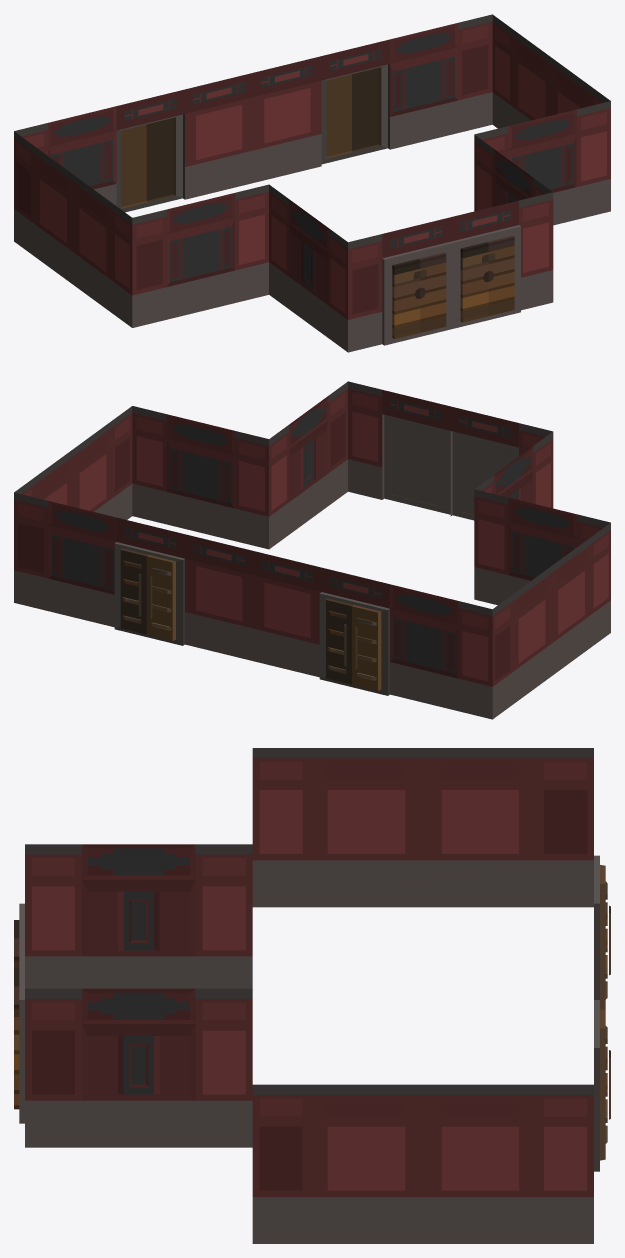
The model's file is BuildingA-T_ALOD1.fbx.
3 views of the same model, one above another, from view 1: azimuth 30°, elevation 25°; view 2: azimuth 150°, elevation 25°; view 3: azimuth 270°, elevation 25° (orthographic). The views are drawn at different scales.
Visible parts, largest first — view 1: BuildingA-T_ALOD1; view 2: BuildingA-T_ALOD1; view 3: BuildingA-T_ALOD1.
Part boxes in pixels (x1,y1,x2,y2): BuildingA-T_ALOD1: (14,14,610,352); BuildingA-T_ALOD1: (14,381,610,719); BuildingA-T_ALOD1: (14,748,610,1243).
Size of the model in its own units: 1750 by 386 by 1311.
